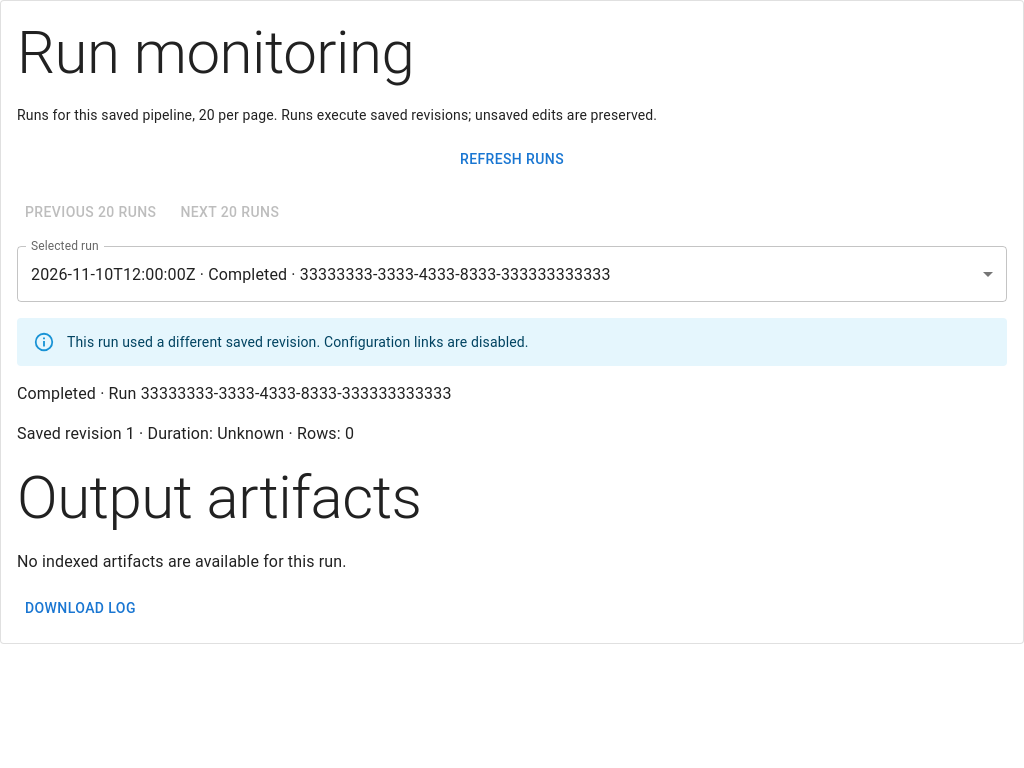
Test: marks retained data stale and recovers by refreshing
Click the button "Refresh runs": (512, 159) 17,141 -> 1007,178
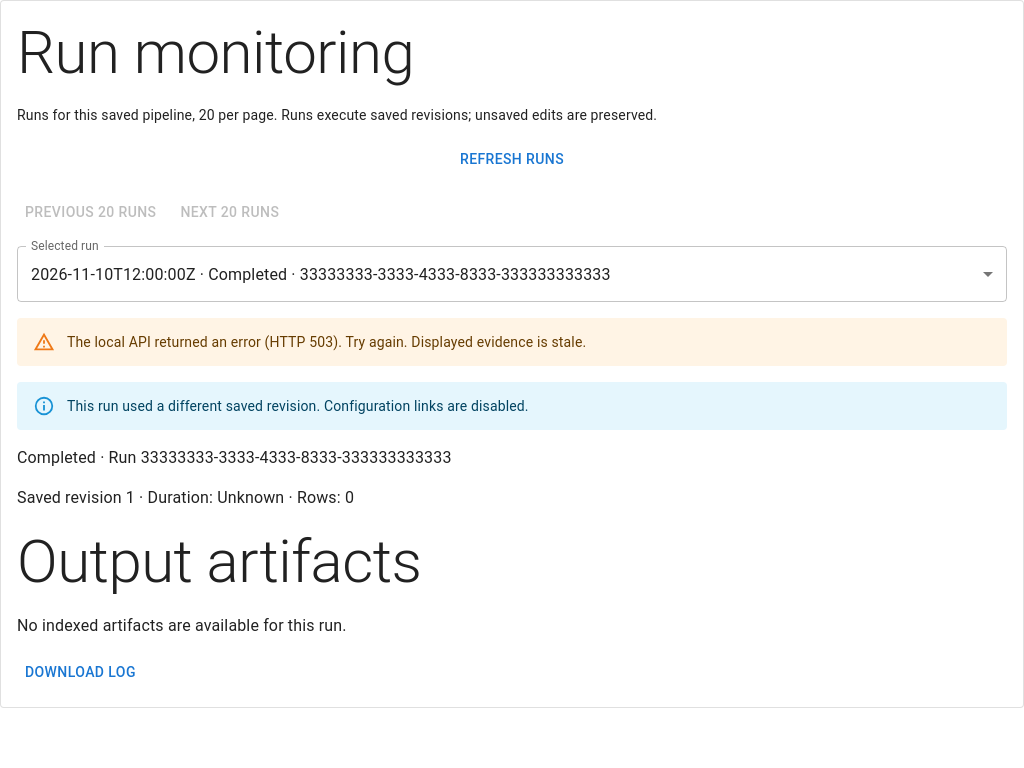
Result: the text "Displayed evidence is stale" is shown at 411,334 -> 586,350
Click the button "Refresh runs": (512, 159) 17,141 -> 1007,178
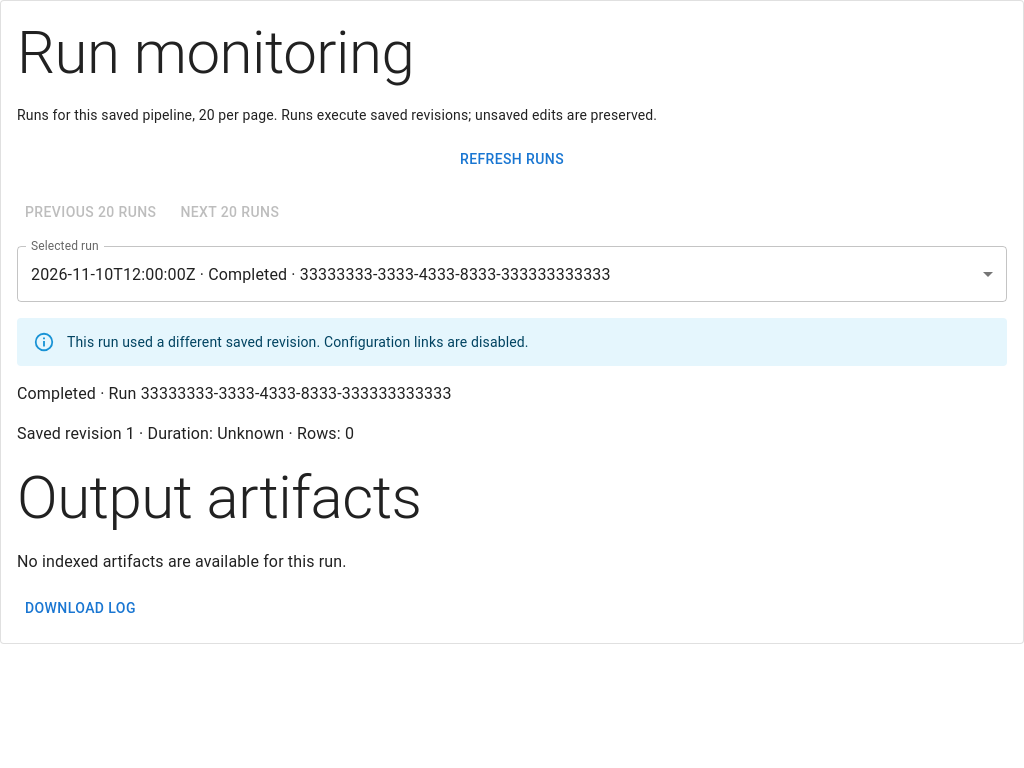
Result: the text "Displayed evidence is stale" is gone
